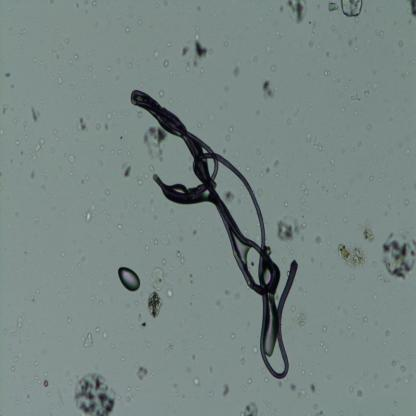Air bubble: (117, 267, 142, 292)
Background material: (379, 229, 416, 281), (74, 371, 116, 415), (336, 221, 374, 268), (145, 268, 173, 322), (142, 126, 170, 164), (276, 213, 300, 244), (191, 31, 208, 69), (298, 186, 308, 242), (286, 0, 309, 23), (11, 313, 27, 338), (340, 1, 365, 16), (306, 133, 325, 151), (293, 307, 307, 331), (261, 79, 276, 101), (30, 139, 45, 160), (240, 401, 260, 414), (75, 116, 88, 135), (136, 366, 150, 382), (82, 332, 94, 350), (120, 162, 132, 180), (224, 188, 236, 205), (30, 104, 40, 121), (158, 232, 170, 246), (297, 386, 308, 400), (225, 126, 235, 141), (326, 1, 341, 11), (86, 205, 96, 220), (179, 45, 191, 57), (348, 92, 361, 103), (231, 65, 241, 79), (191, 376, 202, 388), (161, 57, 171, 70), (221, 383, 230, 397), (68, 52, 78, 64), (178, 251, 186, 265), (101, 330, 110, 342), (410, 0, 416, 18), (135, 107, 144, 119), (309, 383, 318, 394), (57, 74, 64, 88), (314, 234, 322, 245), (289, 382, 297, 392), (156, 90, 166, 98), (252, 345, 259, 356), (116, 222, 124, 231), (67, 156, 76, 164), (356, 390, 364, 398), (274, 159, 280, 169), (3, 105, 10, 113), (106, 112, 113, 120), (94, 327, 101, 334), (322, 324, 328, 332), (44, 378, 50, 386)
Microfibre: (129, 90, 297, 378)
